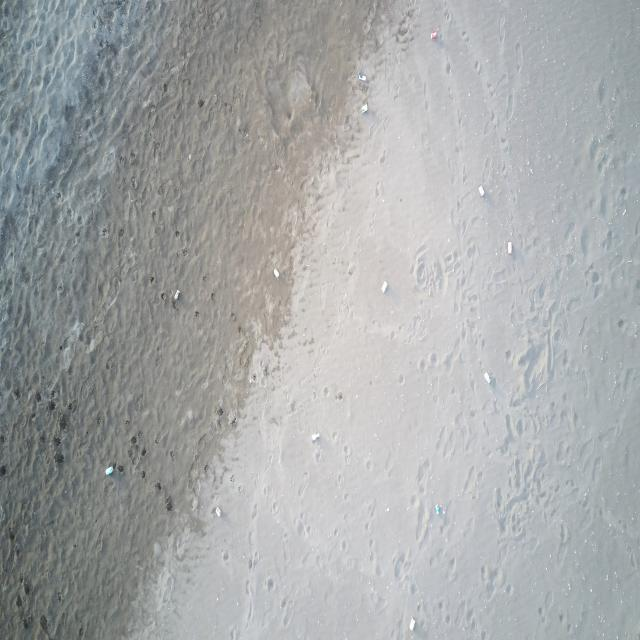Garbage: (408, 616, 415, 630), (172, 288, 180, 300), (433, 504, 443, 513), (477, 184, 484, 196), (484, 371, 491, 383), (380, 280, 387, 292), (357, 72, 366, 81), (311, 432, 319, 442), (272, 267, 279, 278), (507, 240, 512, 253), (104, 467, 112, 475), (430, 30, 436, 40), (116, 464, 123, 472), (360, 103, 367, 111), (215, 506, 220, 516)
